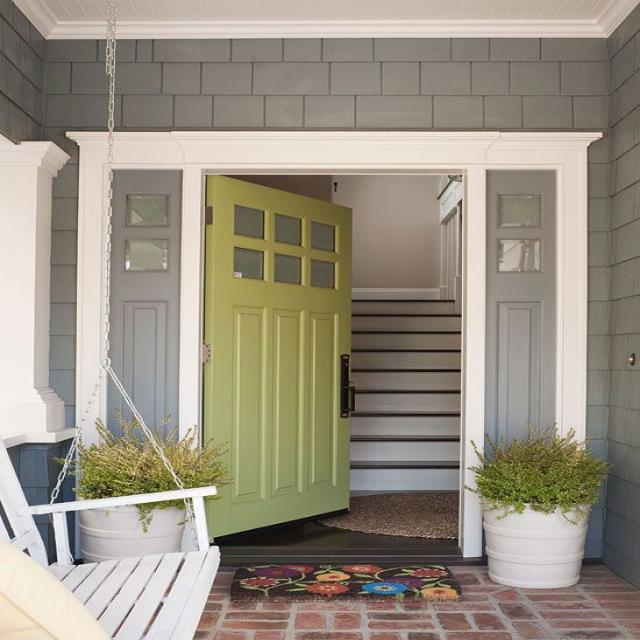OpenDoor: (187, 162, 474, 567)
